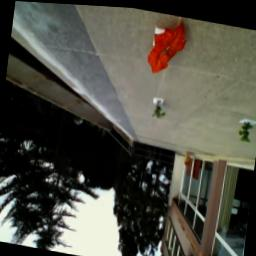herb: (237, 116, 255, 141), (151, 97, 168, 119)
wild: (147, 13, 190, 78)
